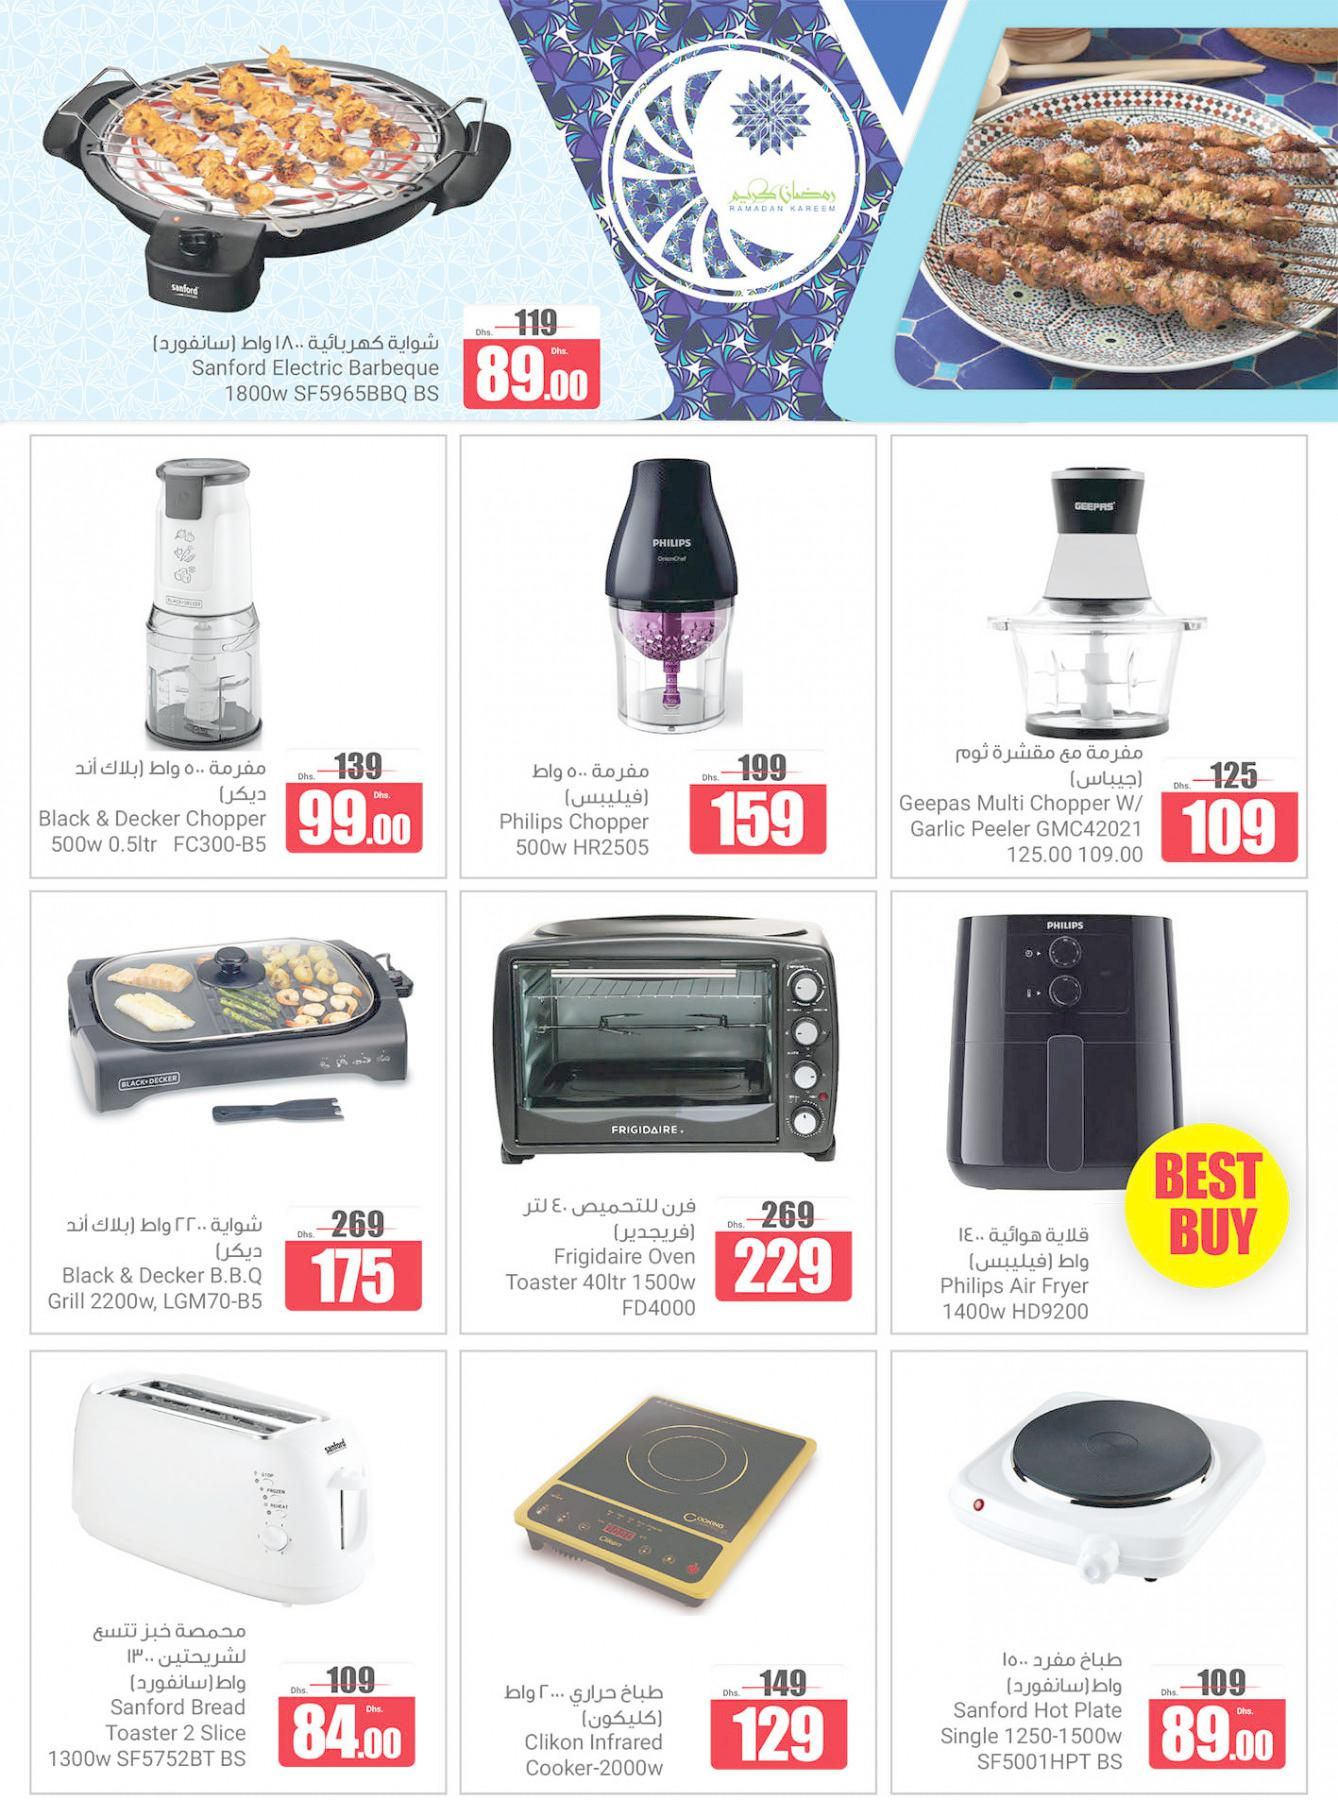text: (895, 793, 1154, 866), (914, 1699, 1131, 1778), (42, 1695, 256, 1773), (483, 1244, 703, 1318), (65, 1617, 252, 1697), (156, 356, 448, 405), (34, 804, 275, 860), (46, 1206, 270, 1266), (39, 1262, 273, 1314), (481, 1192, 701, 1246), (922, 742, 1158, 793), (915, 1217, 1099, 1277), (486, 1728, 677, 1785), (67, 755, 274, 805), (142, 323, 447, 357), (485, 1678, 675, 1731), (950, 1643, 1130, 1699), (918, 1272, 1103, 1324), (489, 807, 659, 860), (512, 755, 658, 809)
